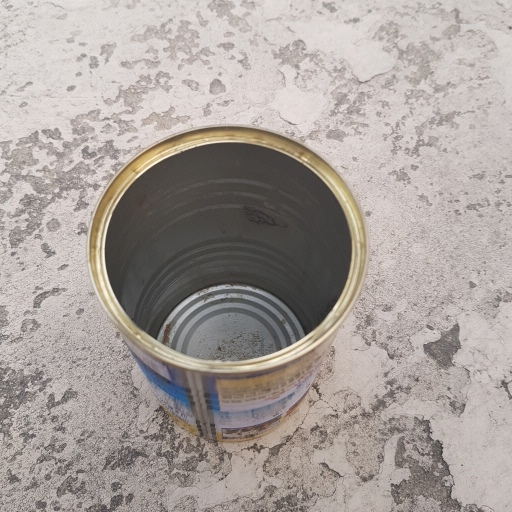Metal_1: (86, 123, 368, 439)
